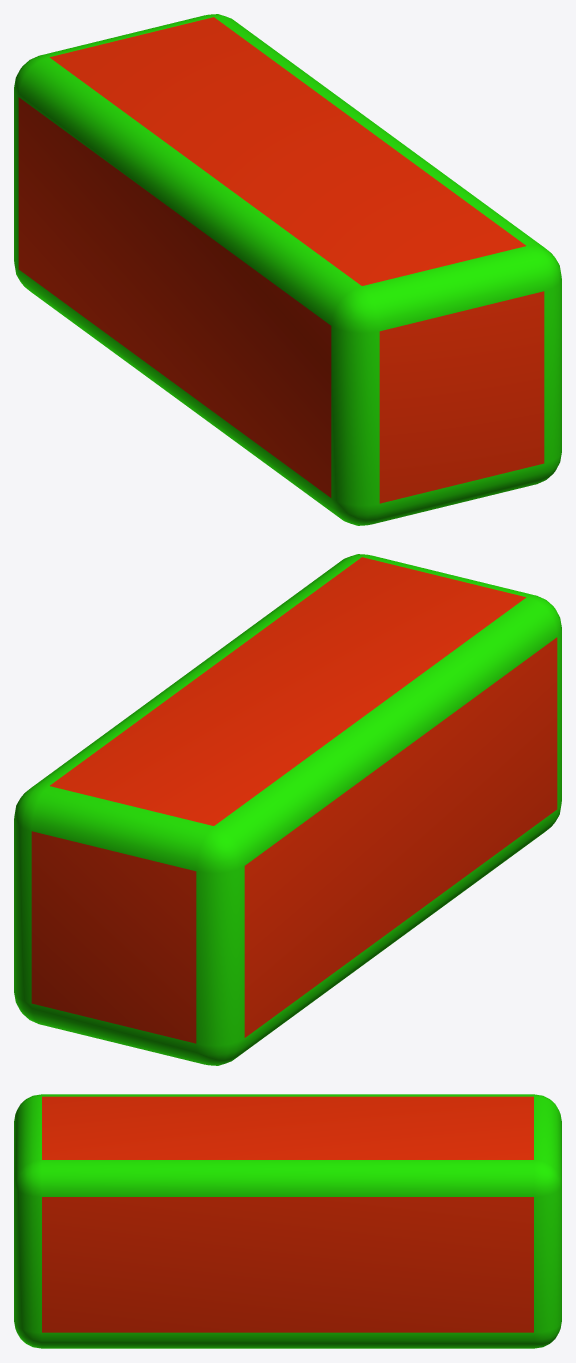
The model's file is Basamak.fbx.
3 views of the same model, one above another, from view 1: azimuth 30°, elevation 25°; view 2: azimuth 150°, elevation 25°; view 3: azimuth 270°, elevation 25° (orthographic). The views are drawn at different scales.
Visible parts, largest first — view 1: Basamak; view 2: Basamak; view 3: Basamak.
Boxes of the visible parts, <box> form: Basamak: <box>14,14,561,525</box>; Basamak: <box>14,554,561,1065</box>; Basamak: <box>14,1094,561,1348</box>.
Size of the model in its own units: 150 by 150 by 400.
